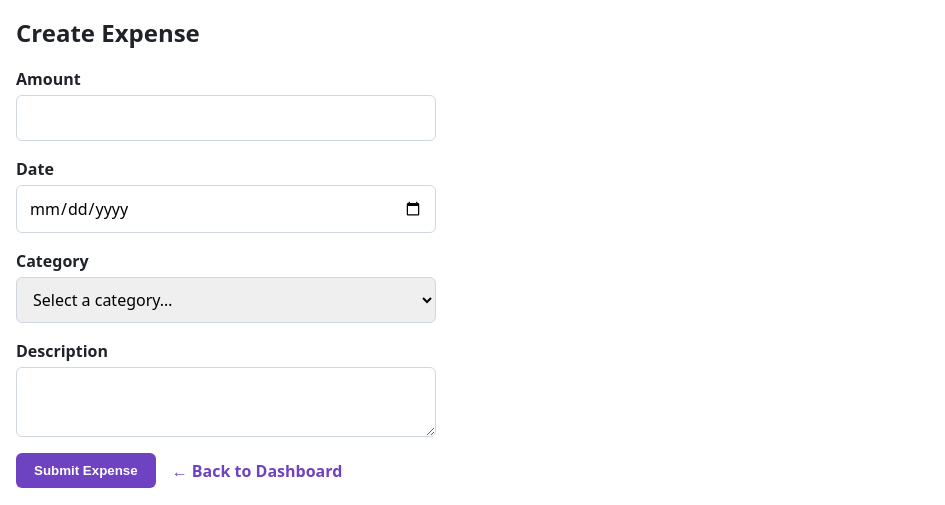
Scenario: Create Expense flow › saves a valid expense to localStorage with Pending status and navigates to My Expenses
The width and height of the screenshot is (945, 505).
Type "42.50" into the number field labelled "Amount". click: [226, 118]
box: [16, 95, 436, 141]
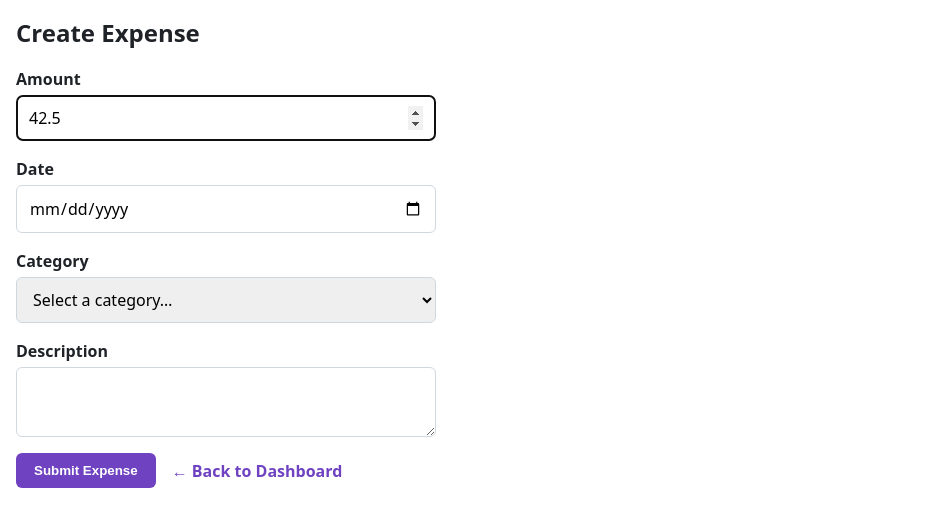
Type "2024-01-15" into the date field labelled "Date". click: [226, 209]
box: [16, 185, 436, 233]
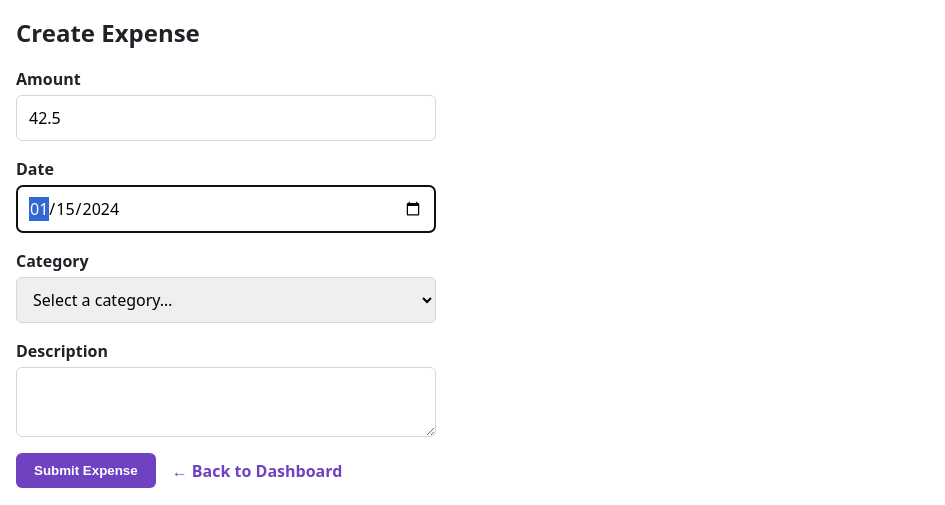
Select "Travel" in the dropdown labelled "Category". click: [226, 300]
box: [16, 277, 436, 323]
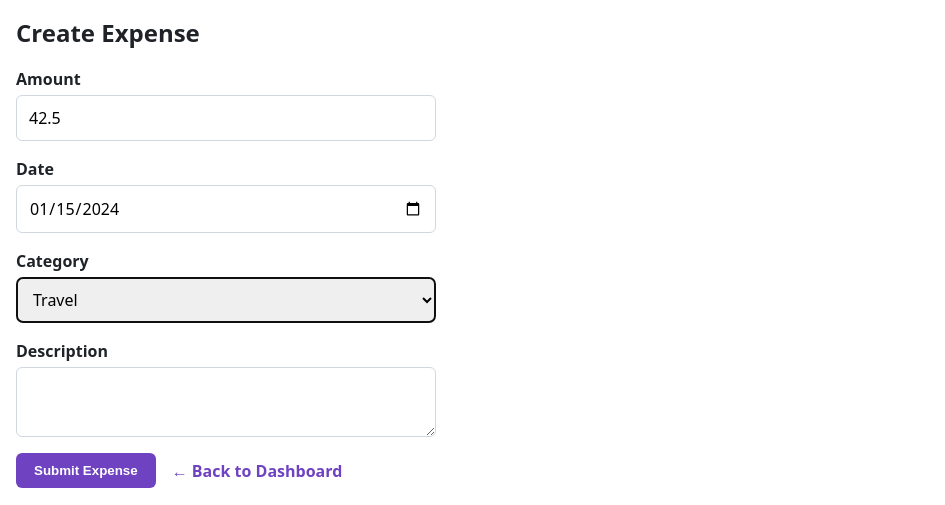
Type "Taxi to airport" into the text box labelled "Description". click: [226, 402]
box: [16, 367, 436, 437]
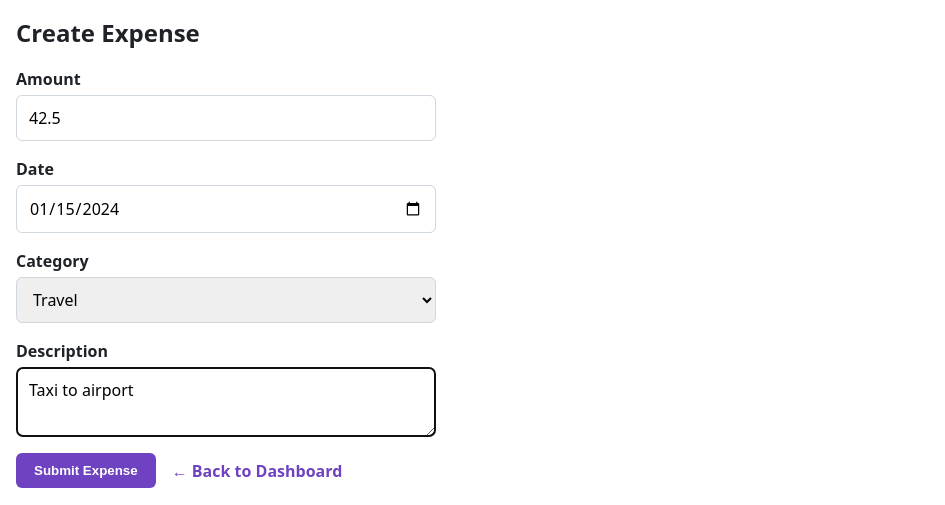
Click the button "Submit Expense". click: [86, 470]
box: [16, 453, 156, 488]
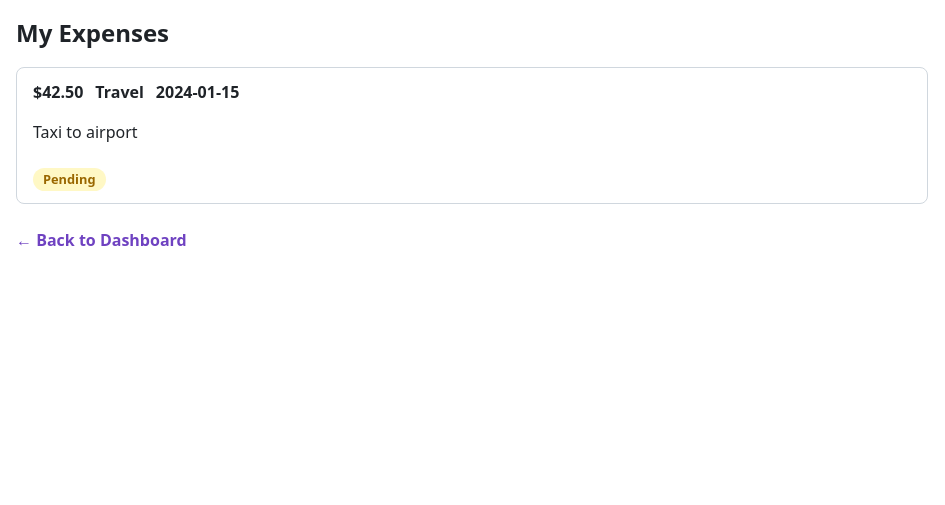
Expected: the heading "My Expenses" is shown, [16, 16, 169, 49]
Expected: the list item "$42.50 Travel 2024-01-15 Taxi to airport Pending" is shown, [16, 67, 928, 204]
Expected: the text "Pending" is shown, [33, 168, 106, 191]
